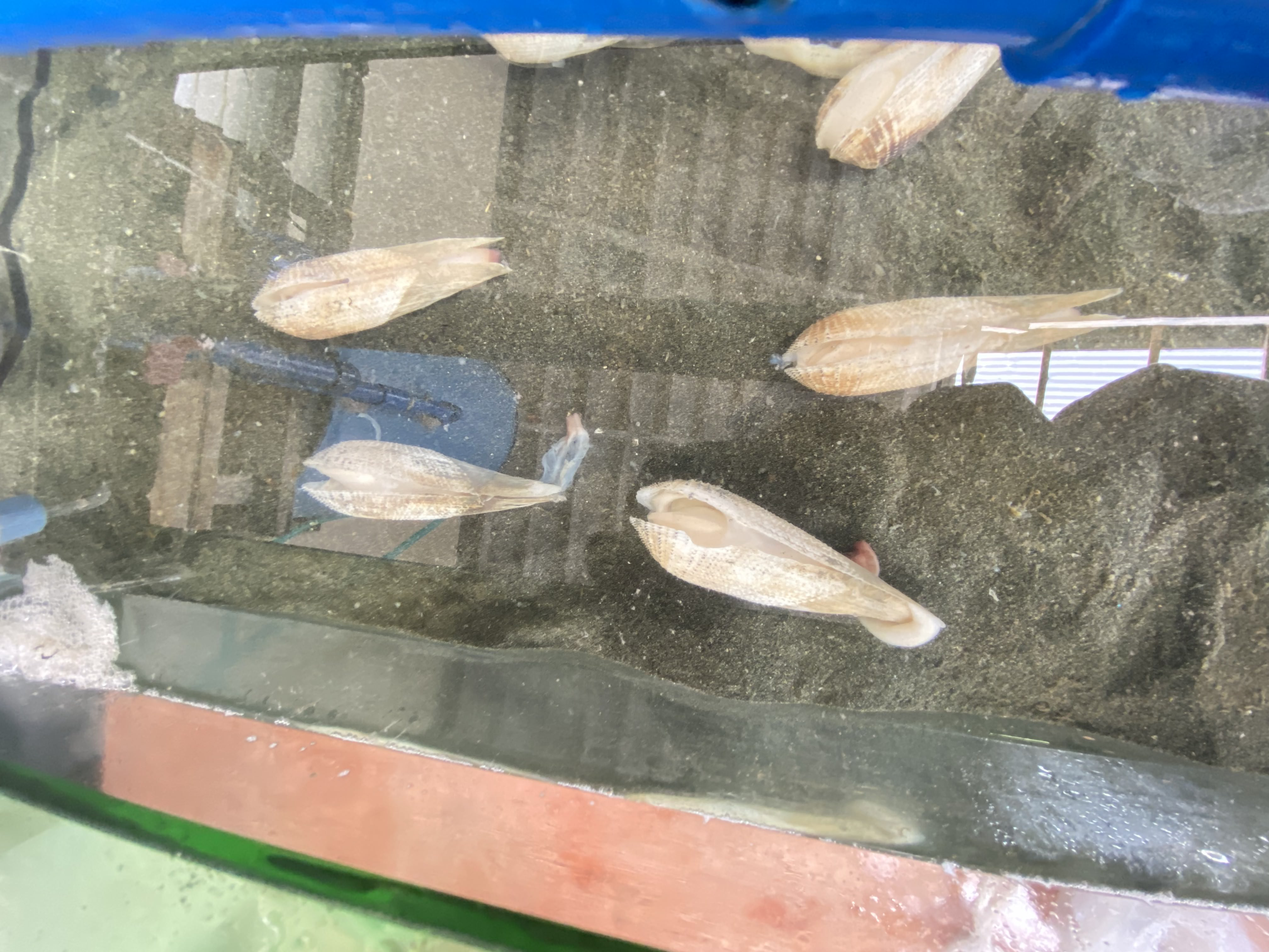At risk: (630, 480, 943, 647), (776, 288, 1120, 395), (745, 39, 998, 169), (303, 414, 589, 520), (252, 238, 507, 339), (486, 34, 623, 63)
